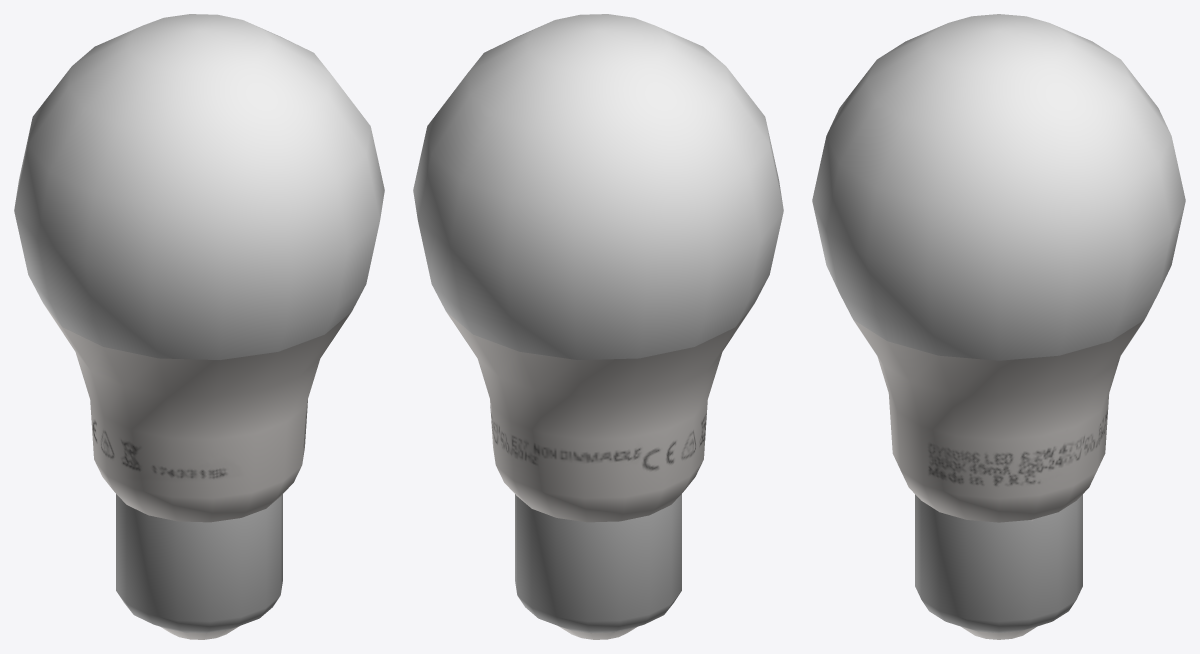
File: lightbulb.obj
3 renders of one model, left to right at view 1: azimuth 30°, elevation 25°; view 2: azimuth 150°, elevation 25°; view 3: azimuth 270°, elevation 25°, orthographic.
Visible parts, largest first — view 1: Lightbulb; view 2: Lightbulb; view 3: Lightbulb.
Boxes of the visible parts, <box> form: Lightbulb: <box>14,14,384,639</box>; Lightbulb: <box>413,14,783,639</box>; Lightbulb: <box>812,14,1185,639</box>.
Bounding box in the file's own units: 0.0589 × 0.1045 × 0.0589.
Materials: 1 (1 with a texture image).
